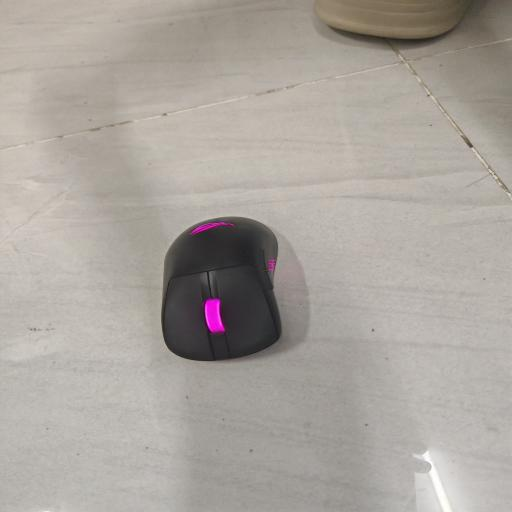mouse: (162, 217, 280, 360)
